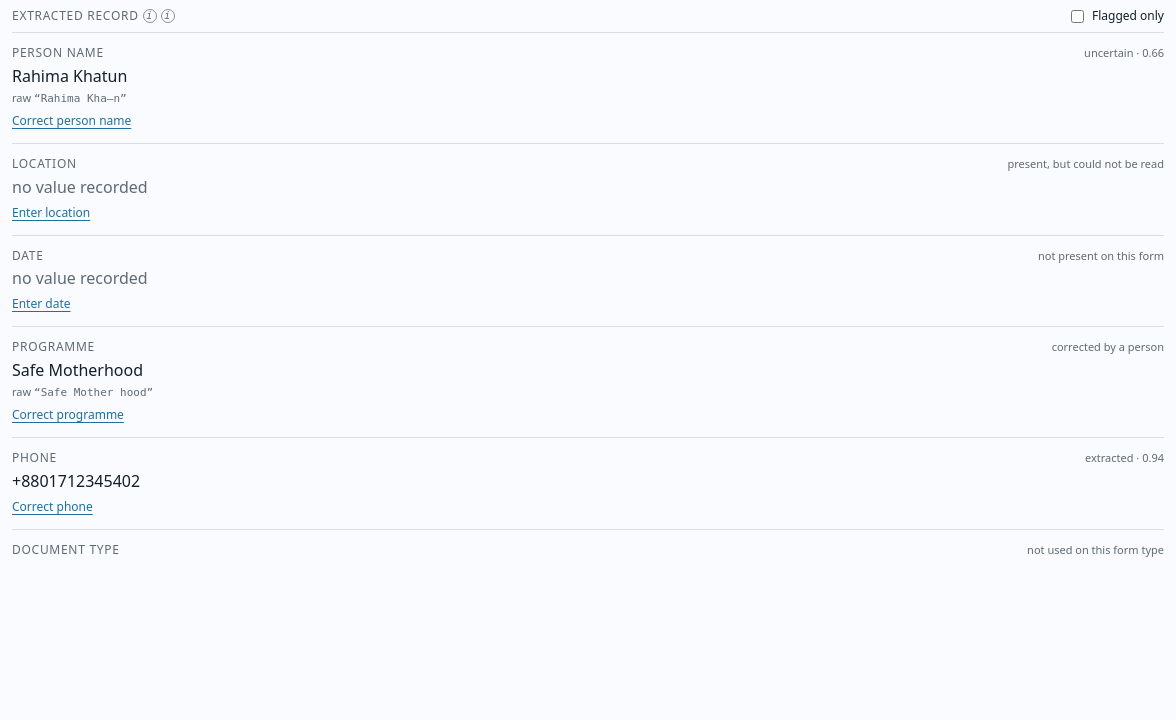
Test case: FieldList › hides the settled fields when flagged-only is on
Step 1. Click the checkbox labelled "Flagged only" → (1078, 16), box [1071,10,1084,22]
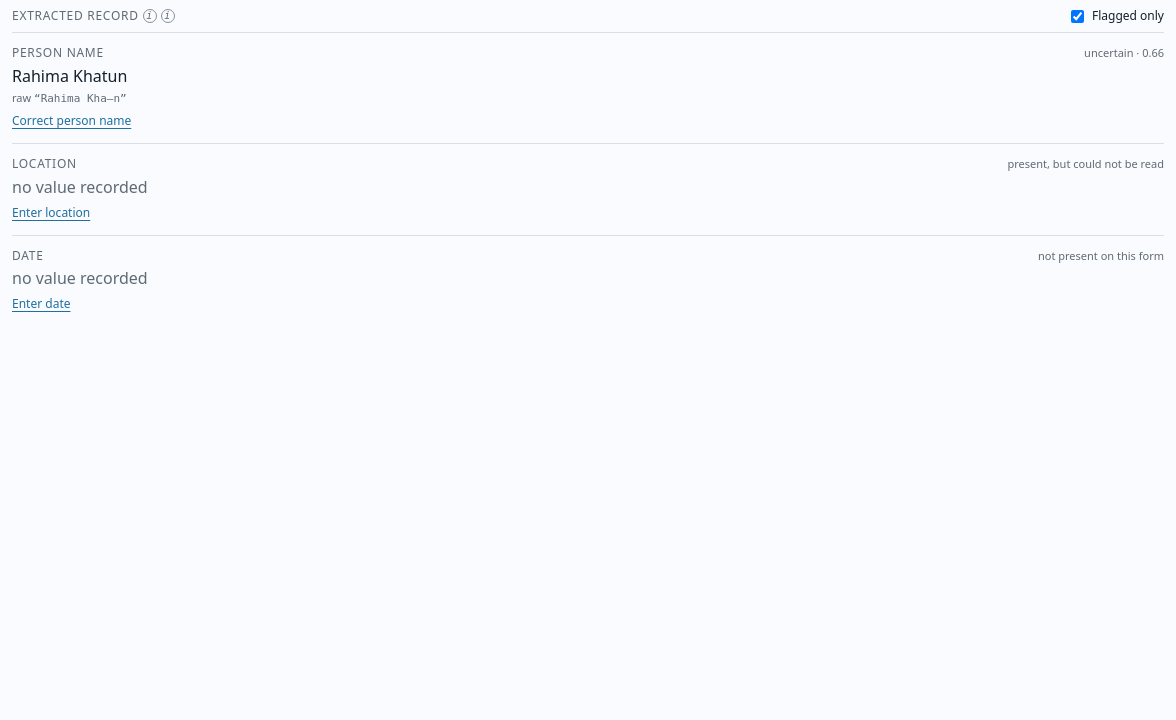
expect the text "Person name" is shown: met, box [12,44,104,61]
expect the text "Phone" is gone: met
expect the text "Programme" is gone: met
